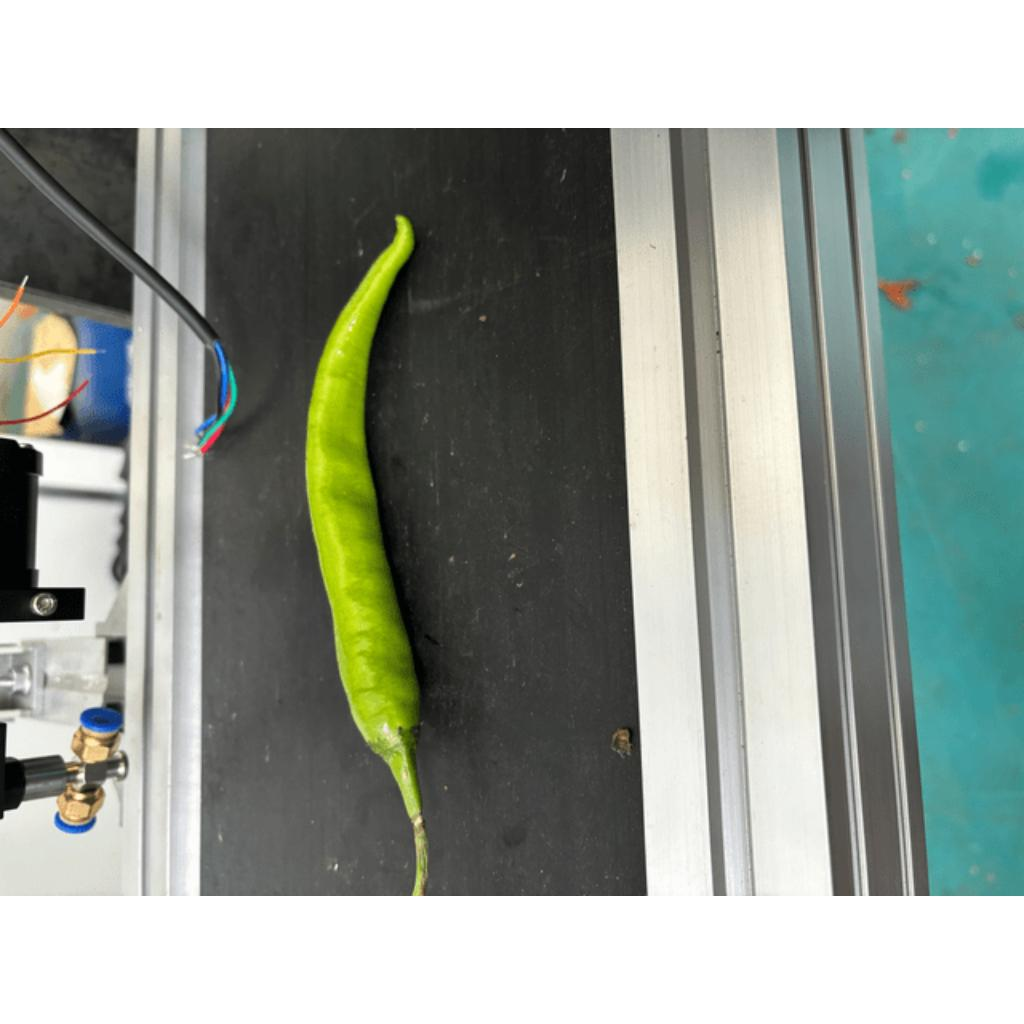chili: (302, 209, 423, 776)
